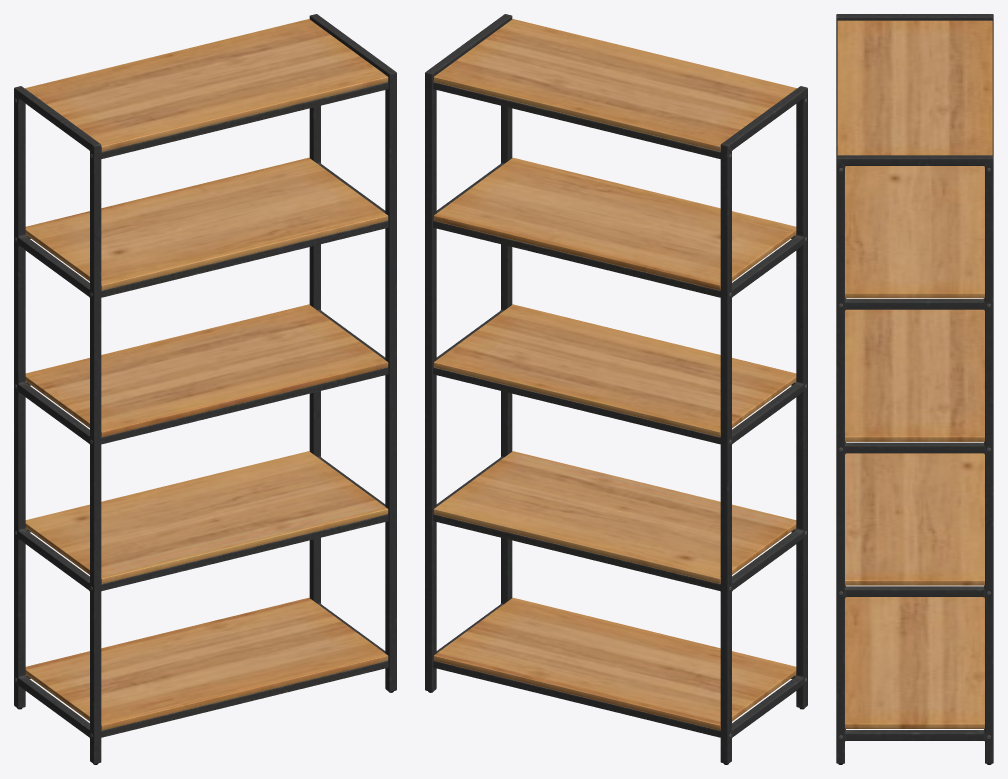
File: steel_frame_shelves_01.glb
3 views of the same model, side by side, from view 1: azimuth 30°, elevation 25°; view 2: azimuth 150°, elevation 25°; view 3: azimuth 270°, elevation 25° (orthographic). The views are drawn at different scales.
Parts seen in each view (by area): view 1: steel_frame_shelves_01; view 2: steel_frame_shelves_01; view 3: steel_frame_shelves_01.
Part boxes in pixels (x1,y1,x2,y2): steel_frame_shelves_01: (14, 14, 396, 764); steel_frame_shelves_01: (425, 14, 807, 764); steel_frame_shelves_01: (836, 14, 993, 764).
Size of the model in its own units: 10.97 by 21.41 by 5.02.
Materials: 1 (1 with a texture image).
